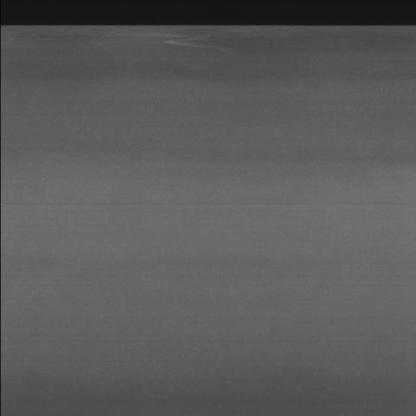silk_spot: (136, 27, 262, 57)
